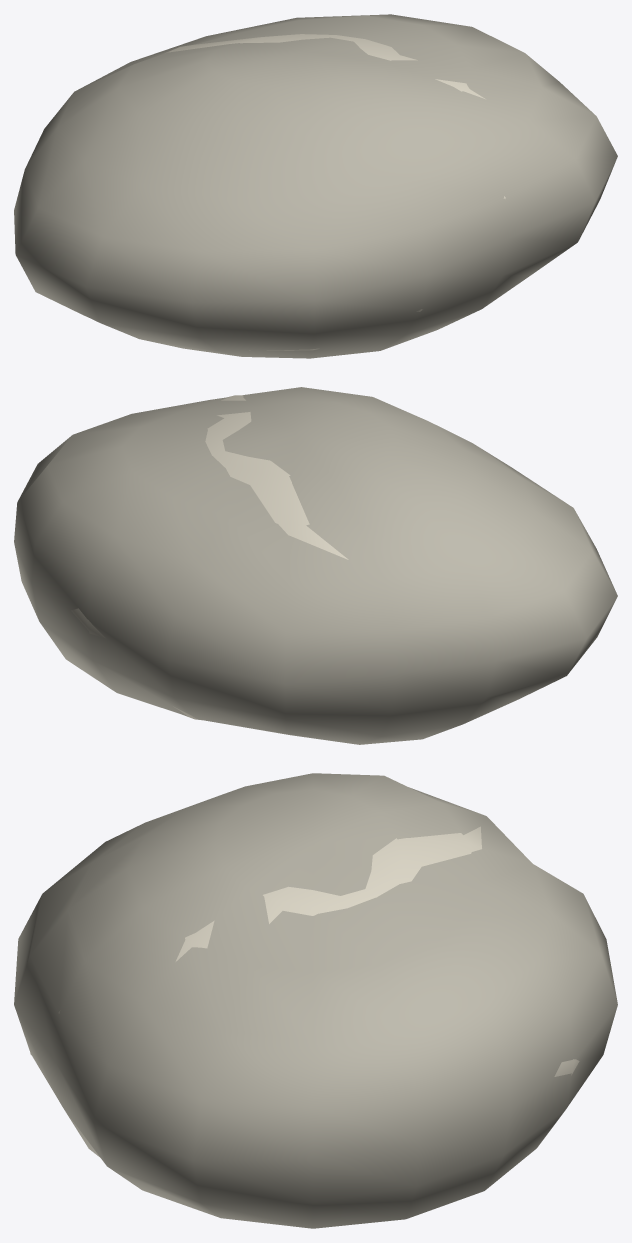
File: water-pebbles.glb
The picture shows the model from 3 angles, top to bottom: view 1: azimuth 30°, elevation 25°; view 2: azimuth 150°, elevation 25°; view 3: azimuth 270°, elevation 25°; orthographic projection. The views are drawn at different scales.
Parts seen in each view (by area): view 1: Water_pebble_3, Water_pebble_2; view 2: Water_pebble_3, Water_pebble_2; view 3: Water_pebble_3, Water_pebble_2.
Part boxes in pixels (left/top/right/bottom): Water_pebble_3: left=14, top=14, right=617, bottom=358; Water_pebble_2: left=165, top=34, right=505, bottom=350; Water_pebble_3: left=14, top=387, right=617, bottom=744; Water_pebble_2: left=71, top=395, right=348, bottom=720; Water_pebble_3: left=14, top=773, right=617, bottom=1228; Water_pebble_2: left=30, top=826, right=579, bottom=1076.
Bounding box in the file's own units: 2.35 × 1.09 × 1.84.
